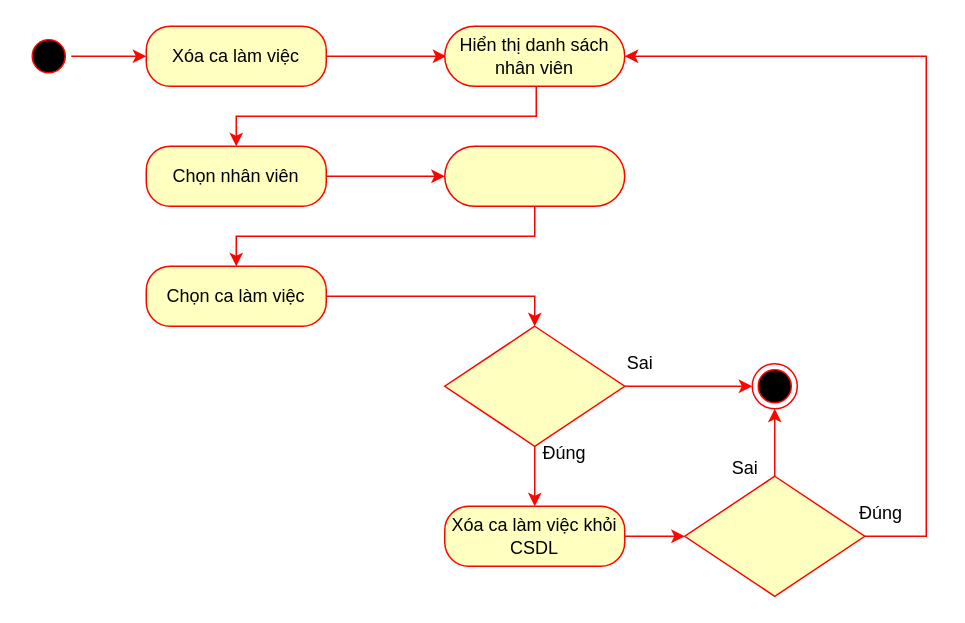
The diagram is 965 pixels wide and 623 high, and some of its shapes have lost their labels. The shapes that lost their labels are listed below. From the top down, each one's centre as x and y in pixels, then its label:
point (534, 175): Hiển thị danh sách ca làm việc
point (534, 385): Xác nhận xóa ca làm việc
point (774, 535): Xóa ca làm việc khác
